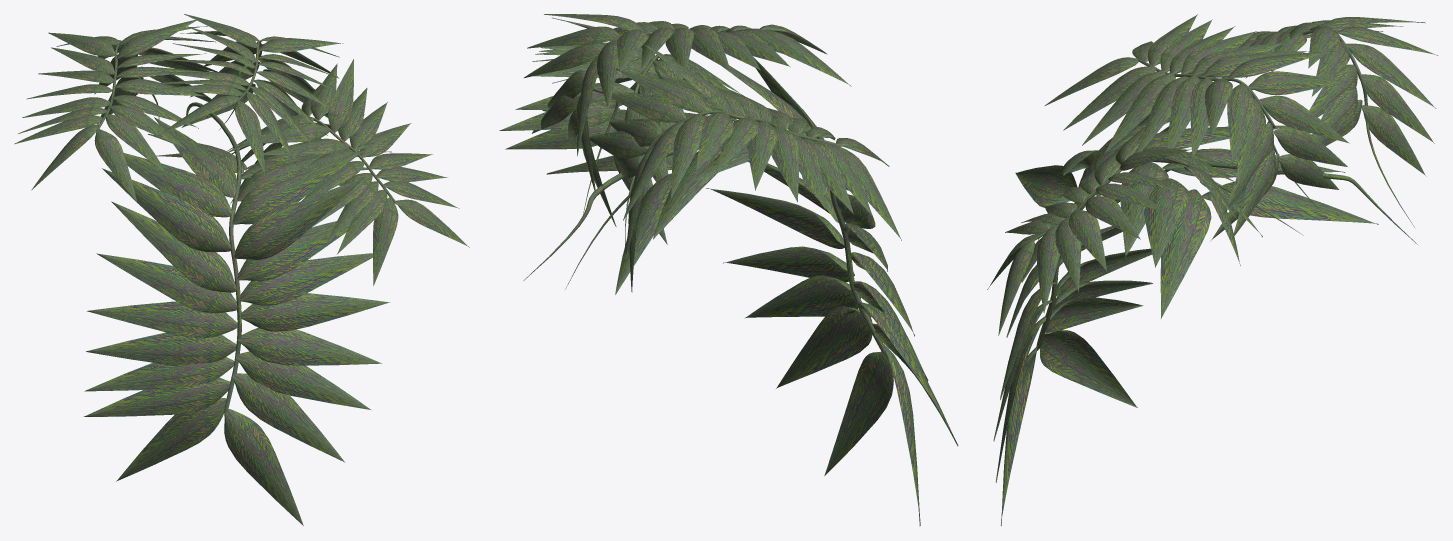
Rendered from planta.glb.
The picture shows the model from 3 angles, left to right: view 1: azimuth 30°, elevation 25°; view 2: azimuth 150°, elevation 25°; view 3: azimuth 270°, elevation 25°; orthographic projection. The views are drawn at different scales.
Visible parts, largest first — view 1: skfb_offset; view 2: skfb_offset; view 3: skfb_offset.
Part boxes in pixels (<box>): skfb_offset: <box>14,14,469,525</box>; skfb_offset: <box>499,14,958,526</box>; skfb_offset: <box>987,14,1437,526</box>.
Bounding box in the file's own units: 13898 × 16108 × 13243.
Materials: 1 (1 with a texture image).
